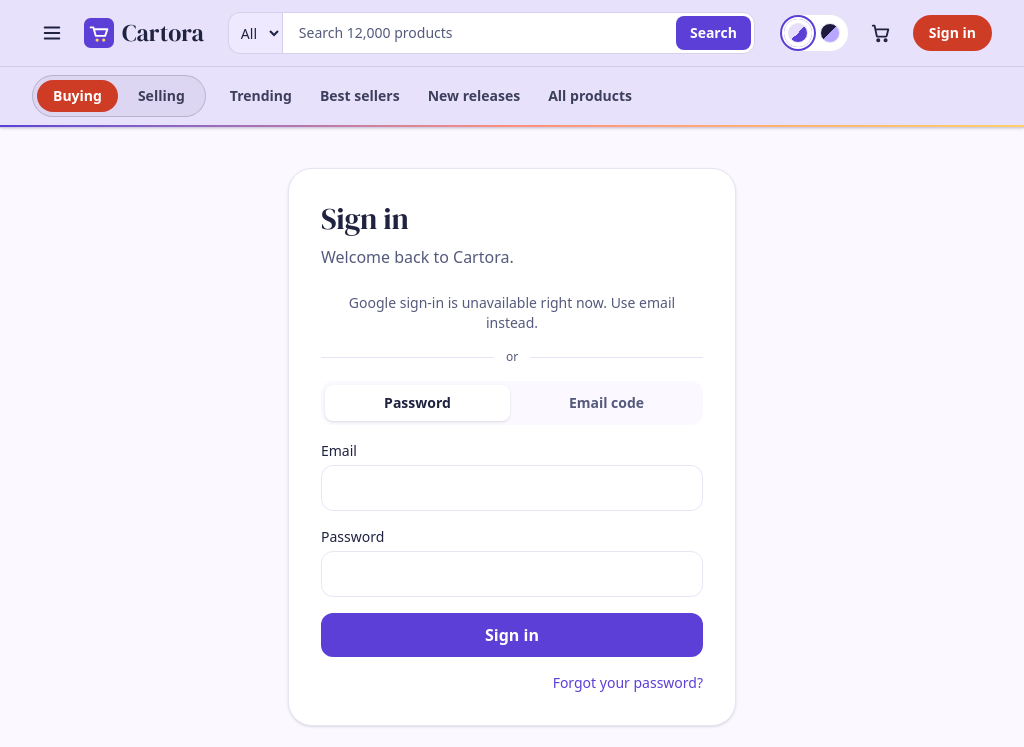
Test: sign in with a password › signs in, greets the user by first name and goes home
This screenshot has width=1024, height=747.
Type " asha@example.com " into the field labelled "Email".
click(512, 488); type(" asha@example.com ")  # box left=321, top=465, right=703, bottom=511
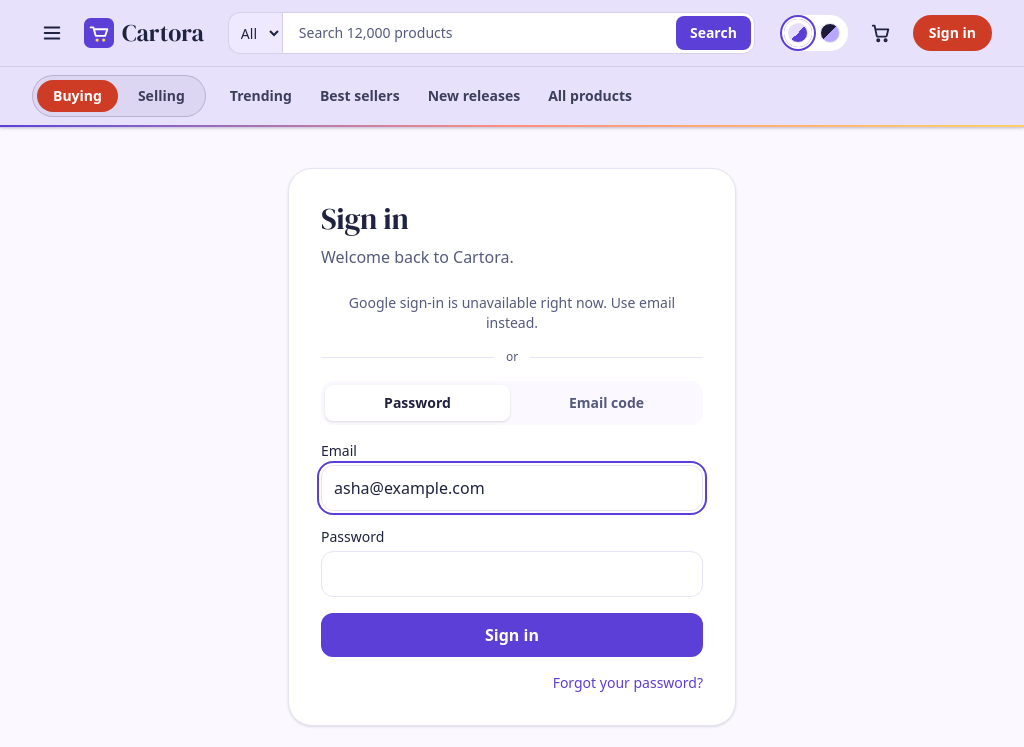
Type "a-good-password" into the password field labelled "Password".
click(512, 574); type("a-good-password")  # box left=321, top=551, right=703, bottom=597
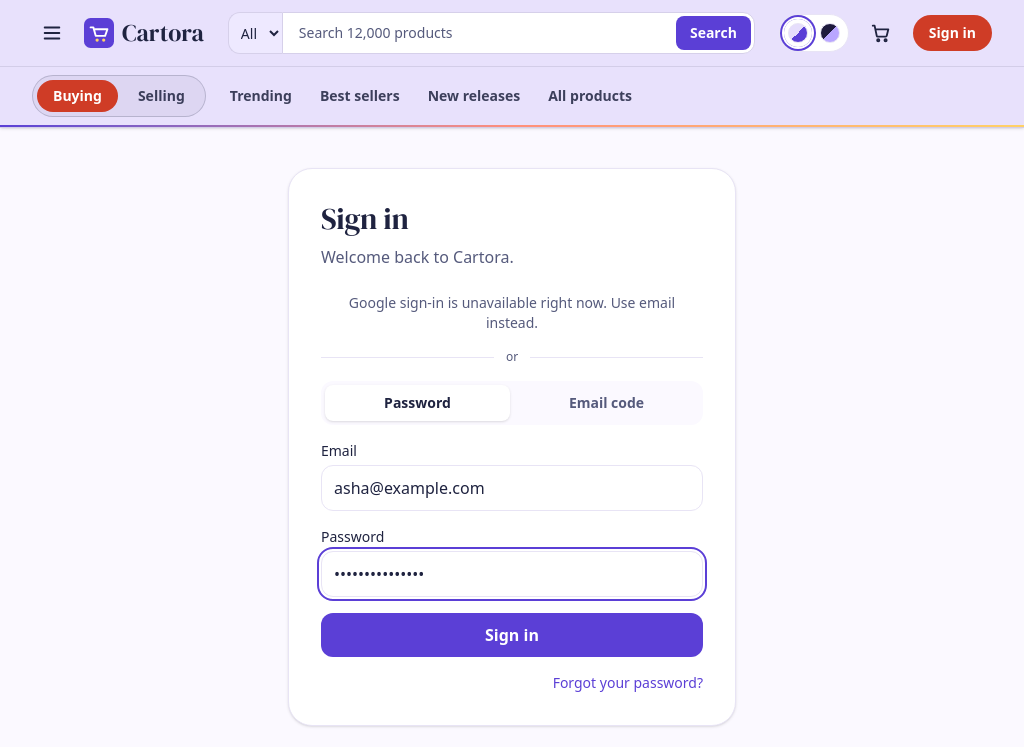
Click the button "Sign in".
click(512, 635)  # box left=321, top=613, right=703, bottom=657
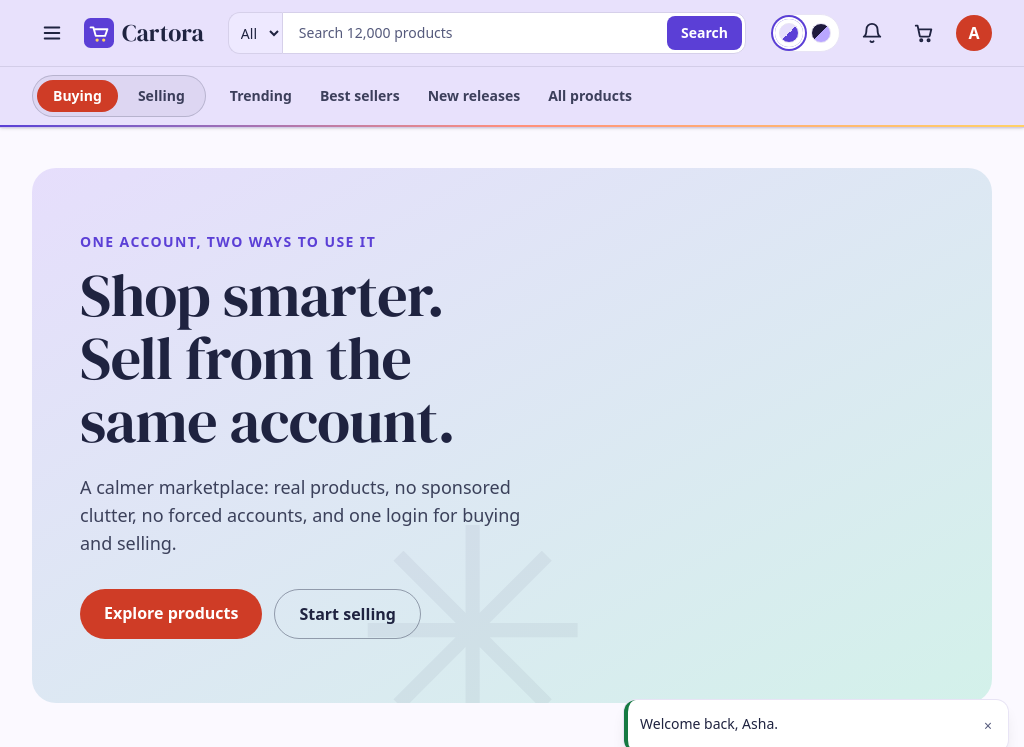
Expected: the text "Welcome back, Asha." is shown, left=640, top=714, right=778, bottom=733
Expected: the heading "Shop smarter. Sell from the same account." is shown, left=80, top=254, right=455, bottom=462
Expected: the button named "account menu" is shown, left=956, top=15, right=992, bottom=51
